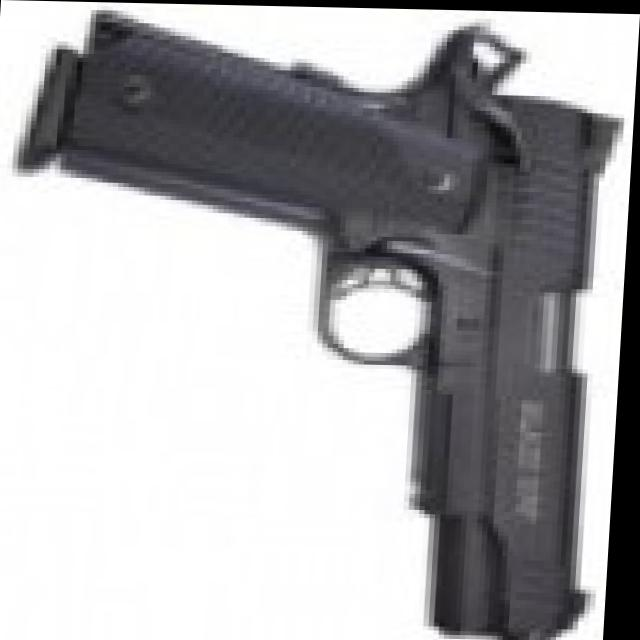handgun: (30, 1, 640, 640)
